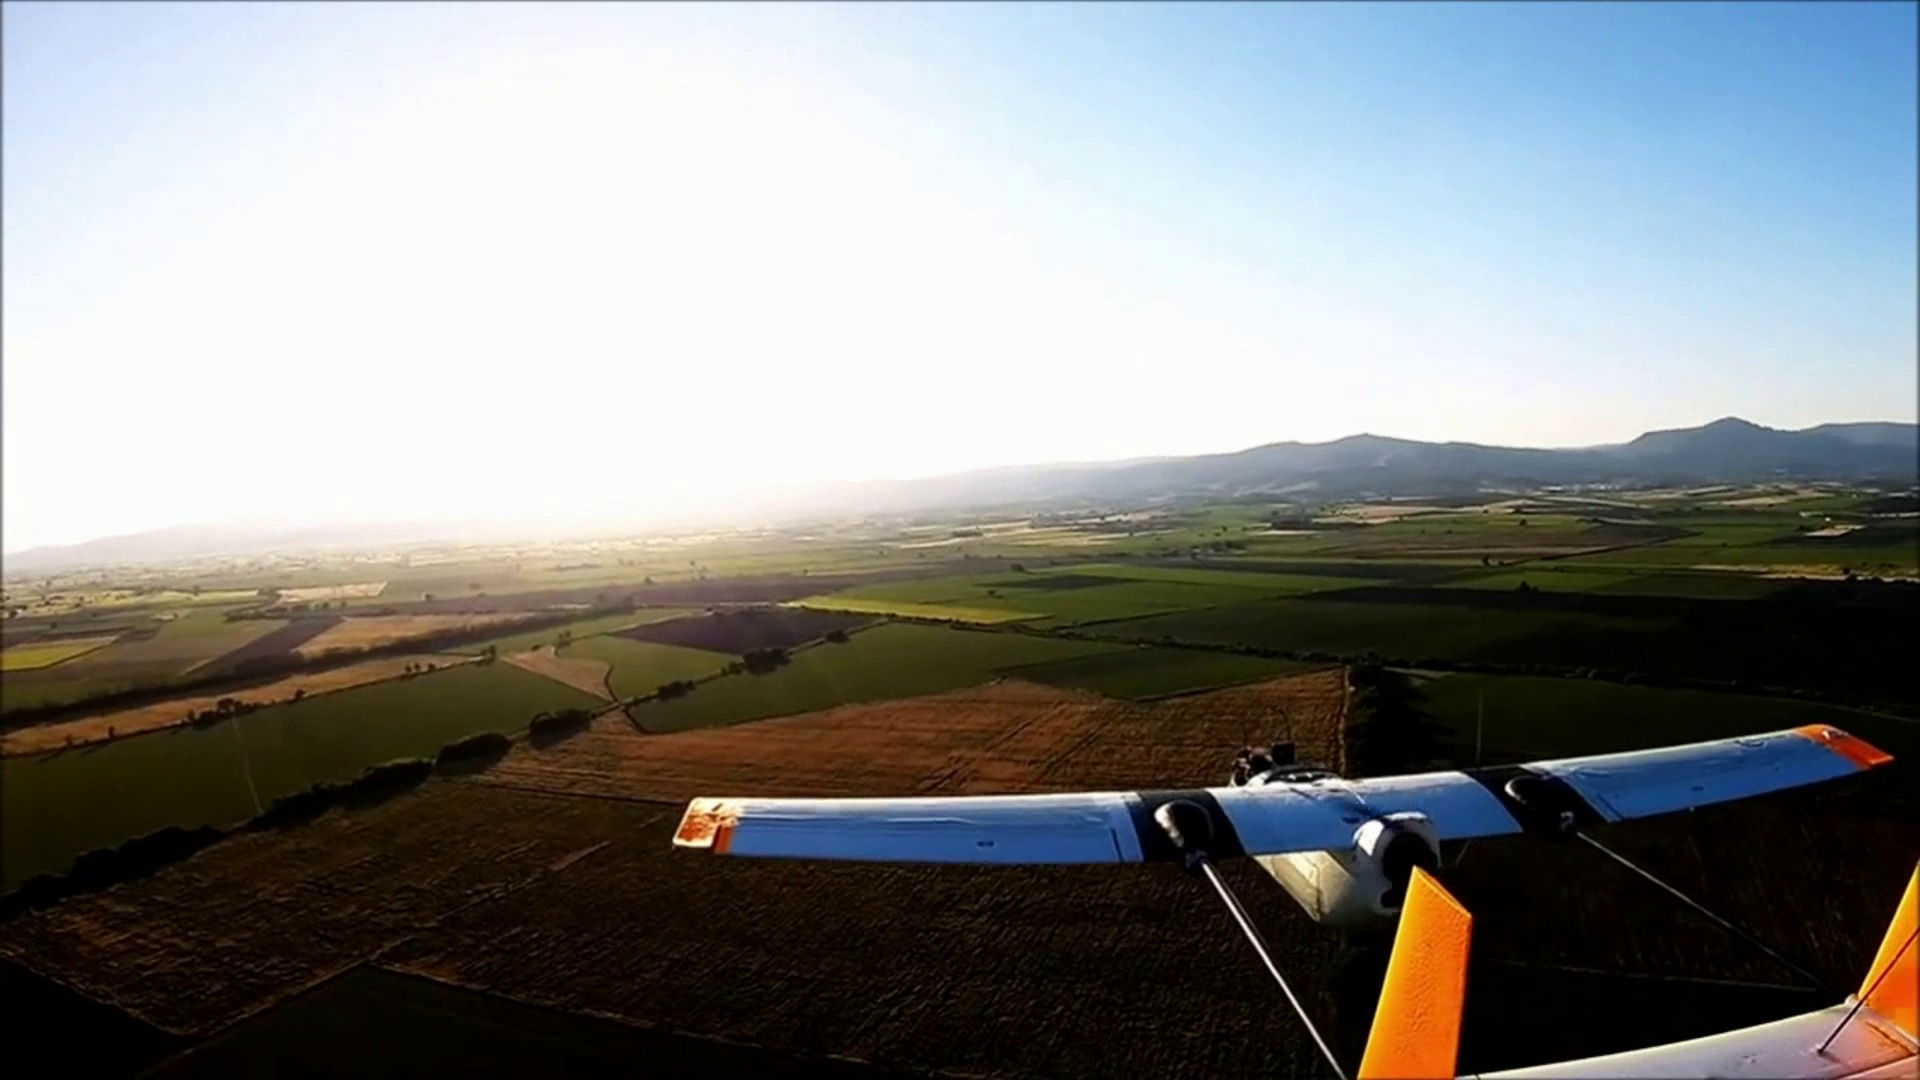airplane: (668, 720, 1900, 1069)
